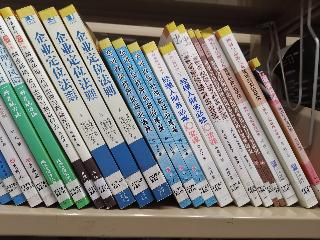book-spine: (14, 2, 137, 211), (37, 4, 155, 208), (0, 5, 117, 210), (56, 4, 174, 202), (0, 14, 106, 211), (216, 25, 320, 209), (165, 21, 265, 208), (173, 23, 274, 208), (198, 27, 301, 208), (189, 29, 289, 207), (187, 28, 280, 207), (97, 37, 193, 210), (112, 37, 205, 208), (140, 40, 233, 208), (158, 41, 251, 207), (126, 41, 218, 208), (0, 39, 89, 211), (0, 66, 74, 213), (248, 58, 320, 202)
